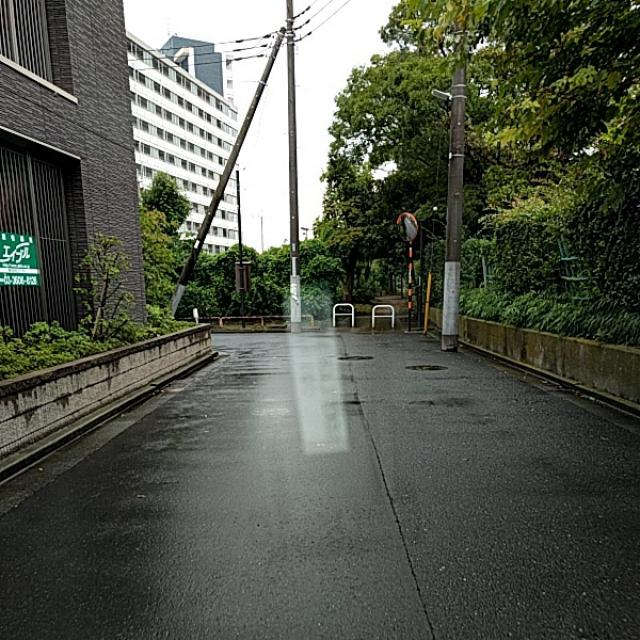pothole: (370, 508, 451, 597)
